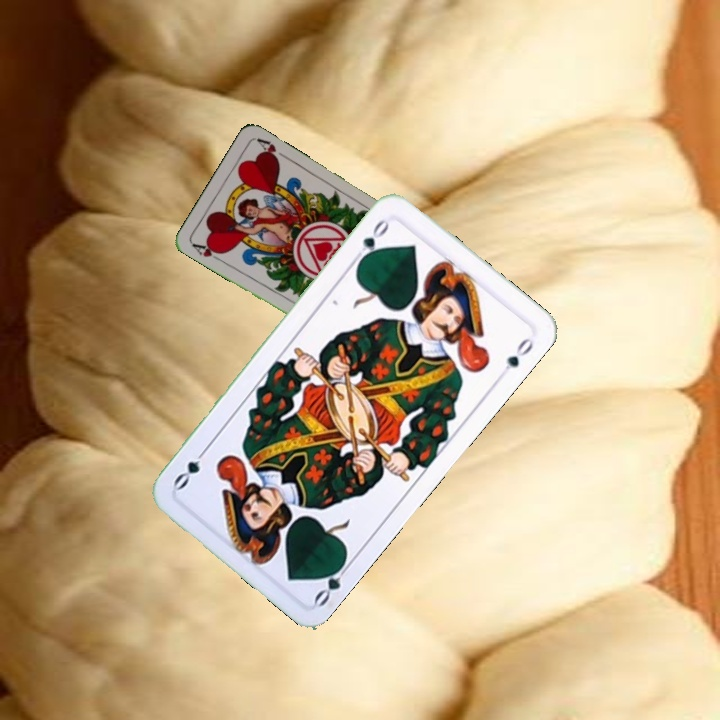GO: (310, 554, 355, 609), (350, 215, 396, 266)
HA: (188, 239, 226, 265)
